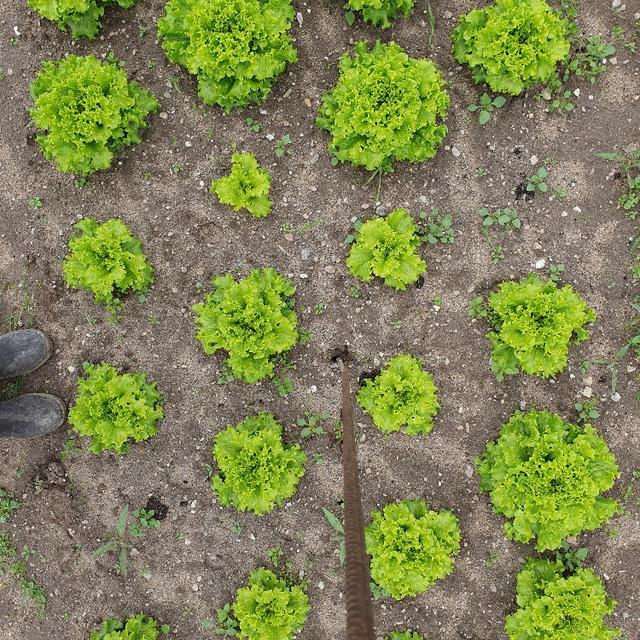Lettuce: (480, 408, 622, 555), (313, 35, 452, 173), (27, 52, 160, 182), (151, 0, 303, 113), (192, 267, 300, 385), (450, 0, 575, 101), (488, 268, 590, 378), (208, 410, 312, 515), (367, 498, 463, 602), (509, 553, 621, 640), (67, 356, 165, 452), (57, 215, 150, 302), (356, 350, 442, 438), (345, 207, 428, 293), (230, 565, 313, 640), (21, 0, 138, 46), (210, 147, 273, 218), (88, 605, 174, 640), (333, 0, 426, 28)
